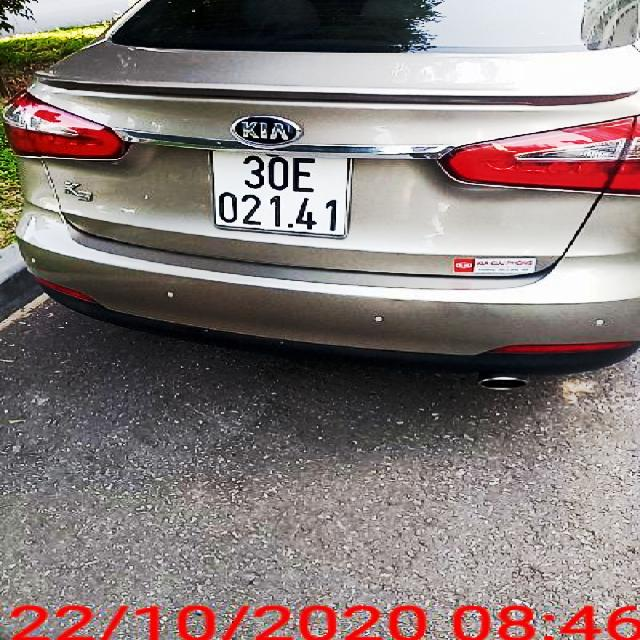license_plate: (216, 154, 354, 236)
